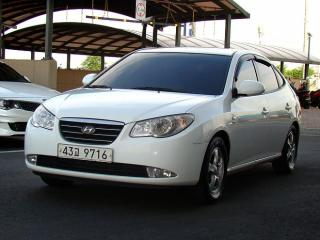1: (96, 149, 101, 160)
3: (68, 146, 74, 156)
4: (63, 146, 69, 156)
6: (101, 149, 109, 160)
7: (89, 148, 95, 159)
9: (83, 148, 89, 158)
고: (74, 148, 80, 157)
